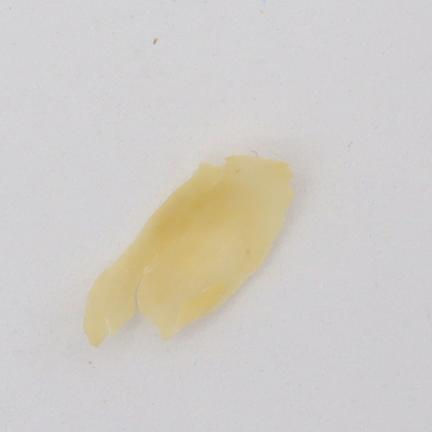parchment: (85, 156, 293, 345)
